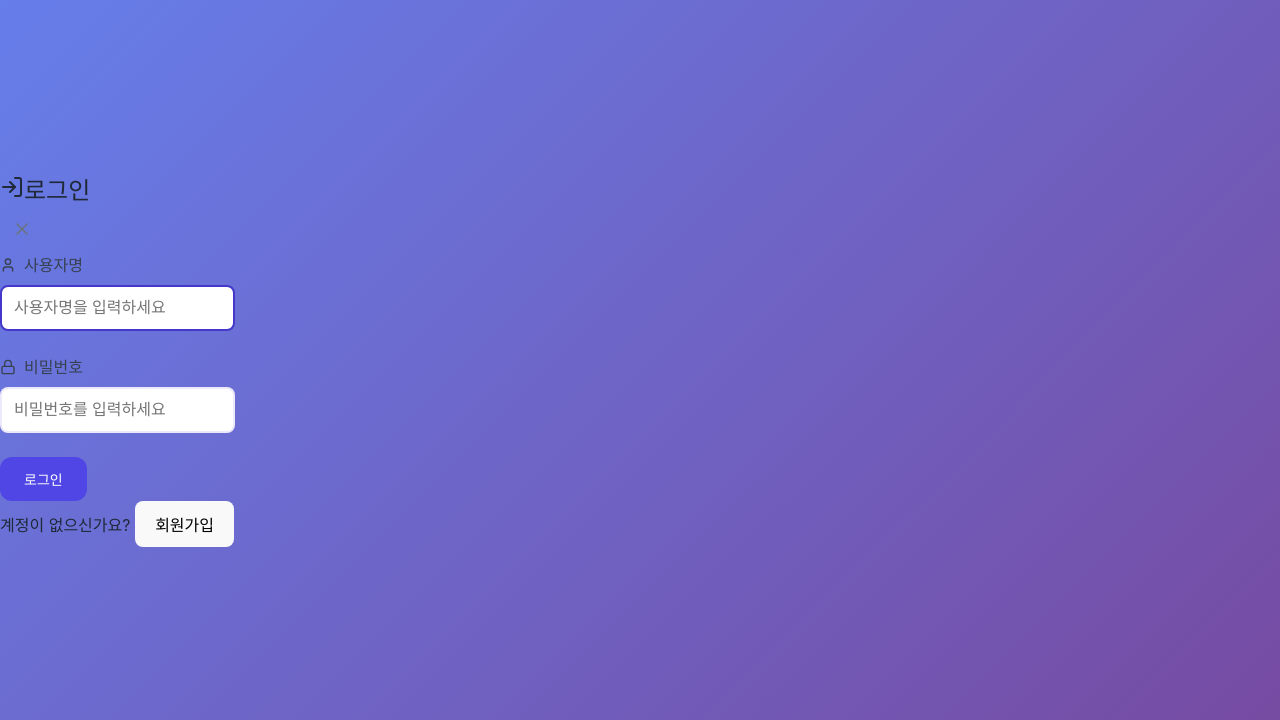
Test: AuthModal › 모드 전환 › should switch to register mode
The width and height of the screenshot is (1280, 720).
Step 1. Click the button "회원가입" → point(185, 524), box [135,501,234,547]
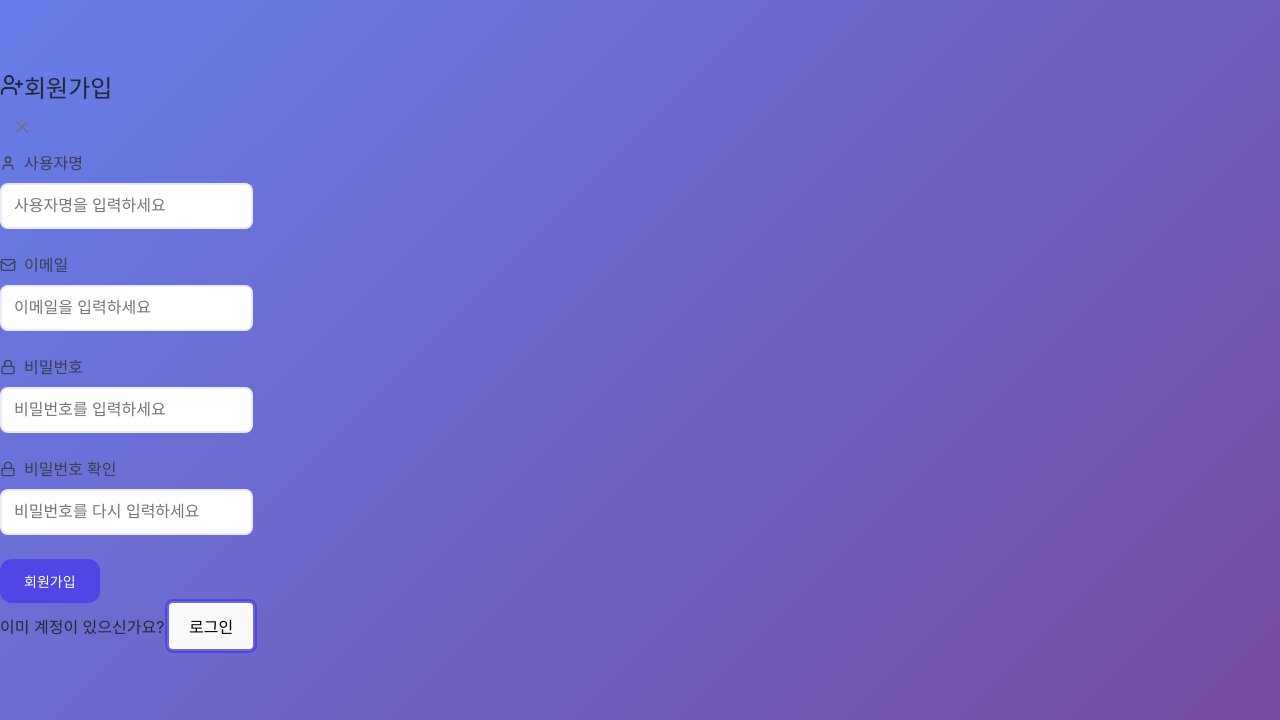
Expected: the field labelled "이메일" is shown, [0,285,253,331]
Expected: the password field labelled "비밀번호 확인" is shown, [0,489,253,535]
